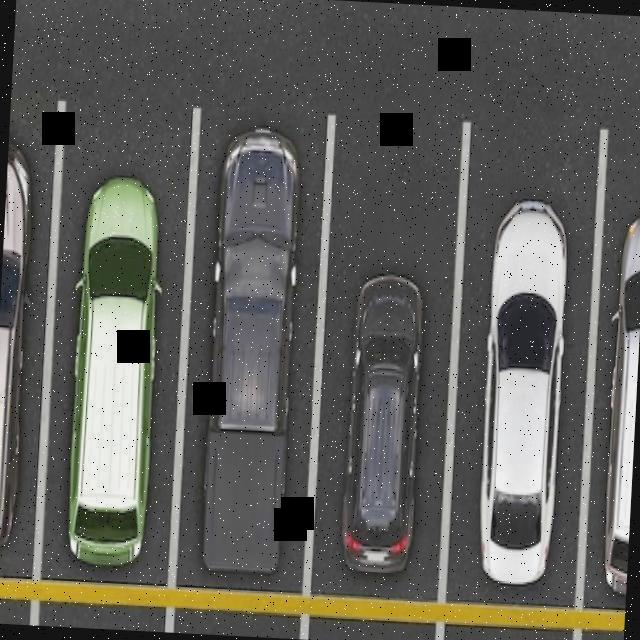car: (436, 122, 610, 630), (166, 106, 338, 612), (302, 116, 470, 619), (34, 100, 201, 595)
